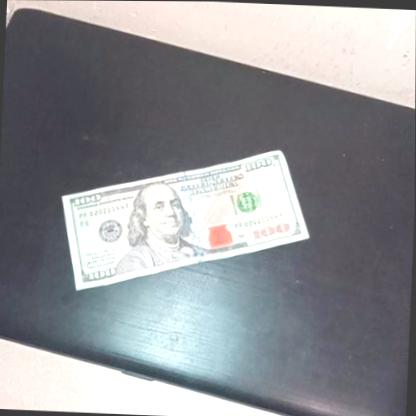one_hundred-front: (57, 136, 316, 302)
